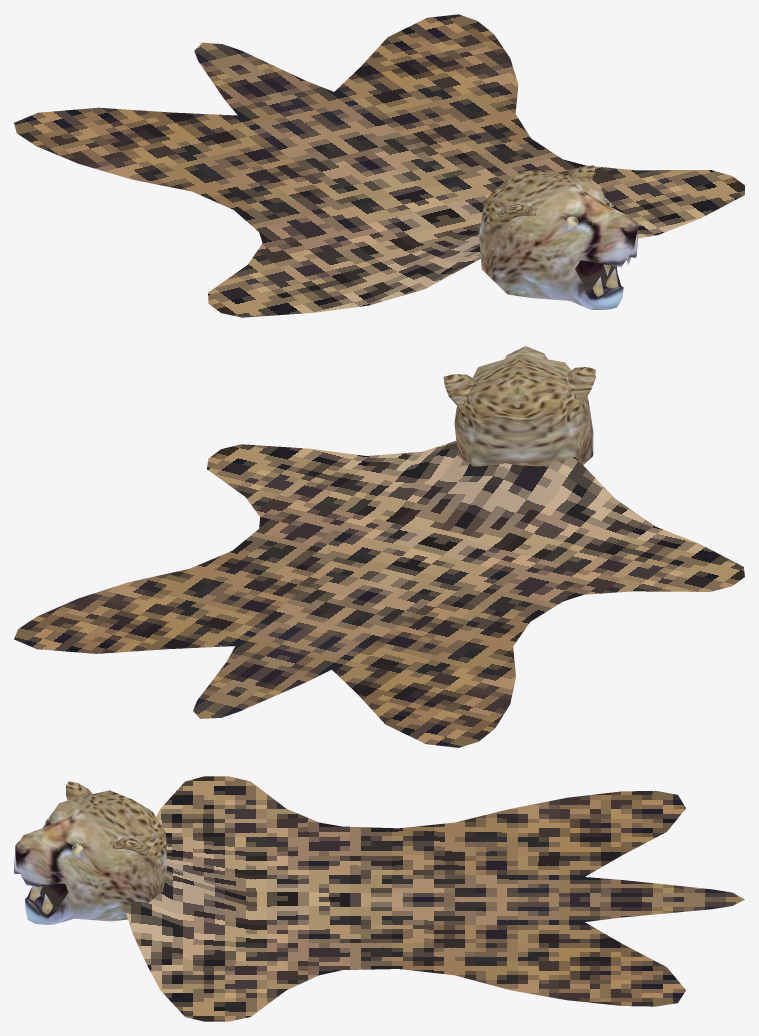
File: o-tora2.glb
3 renders of one model, top to bottom at view 1: azimuth 30°, elevation 25°; view 2: azimuth 150°, elevation 25°; view 3: azimuth 270°, elevation 25°, orthographic. The views are drawn at different scales.
Parts seen in each view (by area): view 1: o_tora2; view 2: o_tora2; view 3: o_tora2.
Boxes of the visible parts, x1,y1,x2,y2 form: o_tora2: [14, 14, 744, 317]; o_tora2: [14, 346, 744, 747]; o_tora2: [14, 776, 744, 1021].
Bounding box in the file's own units: 424 × 85 × 534.
2 materials, 2 textured.
